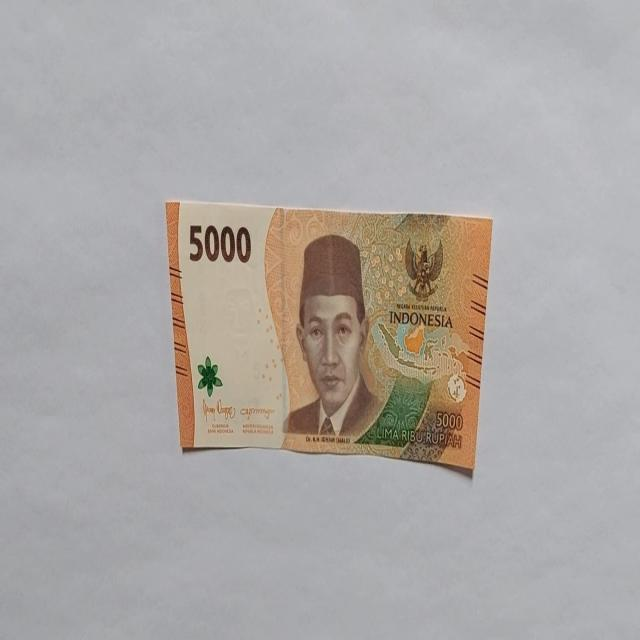lima ribu rupiah: (164, 198, 493, 476), (282, 232, 382, 441)
